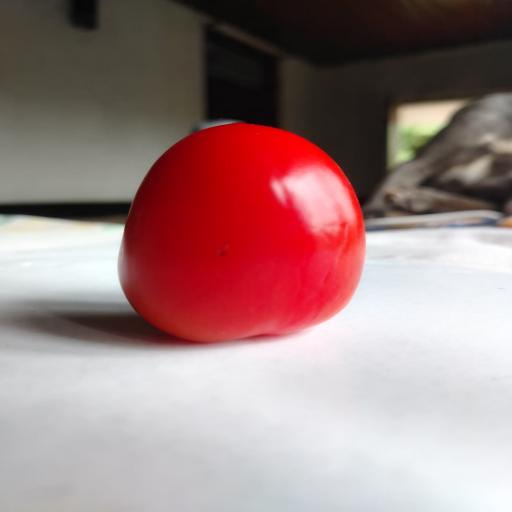ripe: (119, 124, 365, 342)
